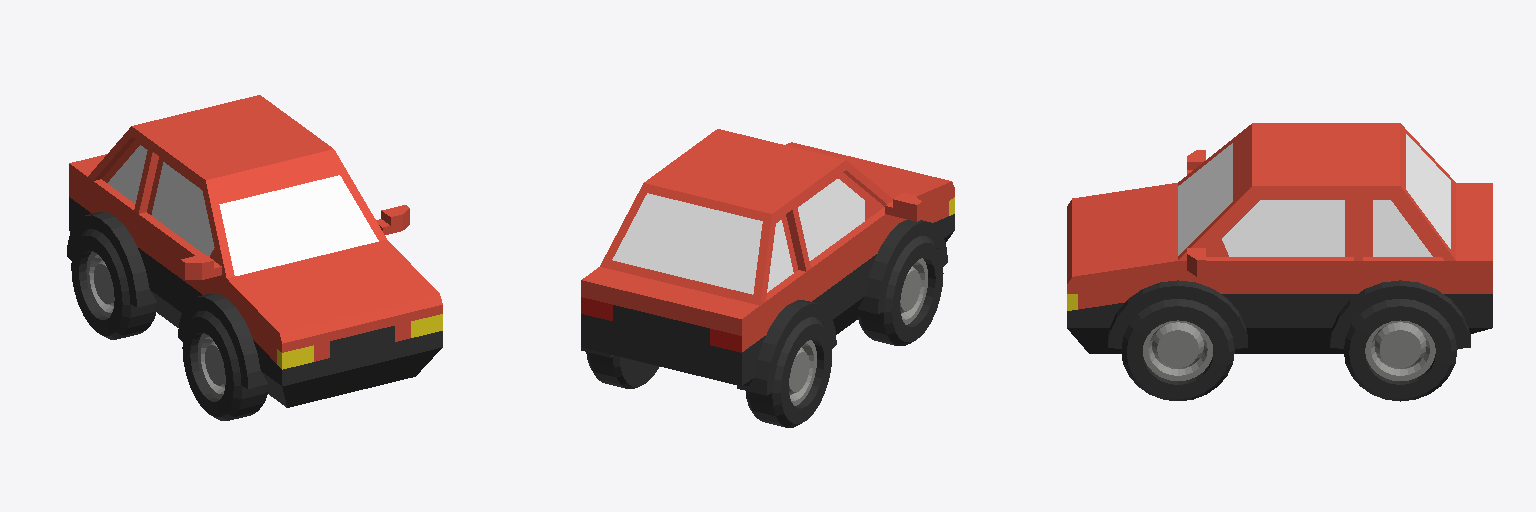
File: car_small_red.obj
3 views of the same model, side by side, from view 1: azimuth 30°, elevation 25°; view 2: azimuth 150°, elevation 25°; view 3: azimuth 270°, elevation 25° (orthographic).
Parts seen in each view (by area): view 1: mergedBlocks; view 2: mergedBlocks; view 3: mergedBlocks.
Part boxes in pixels (x1,y1,x2,y2): mergedBlocks: (67, 95, 442, 420); mergedBlocks: (581, 129, 954, 427); mergedBlocks: (1067, 123, 1492, 401).
Size of the model in its own units: 1.4 by 1.21 by 2.3.